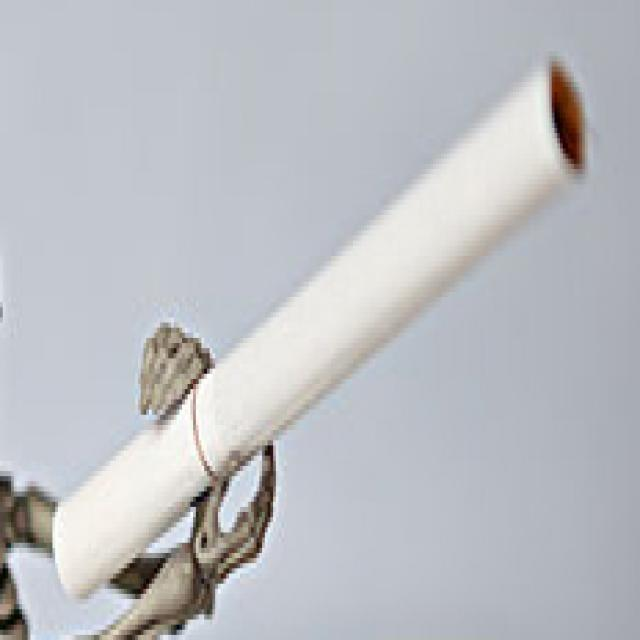smoking: (51, 54, 592, 603)
